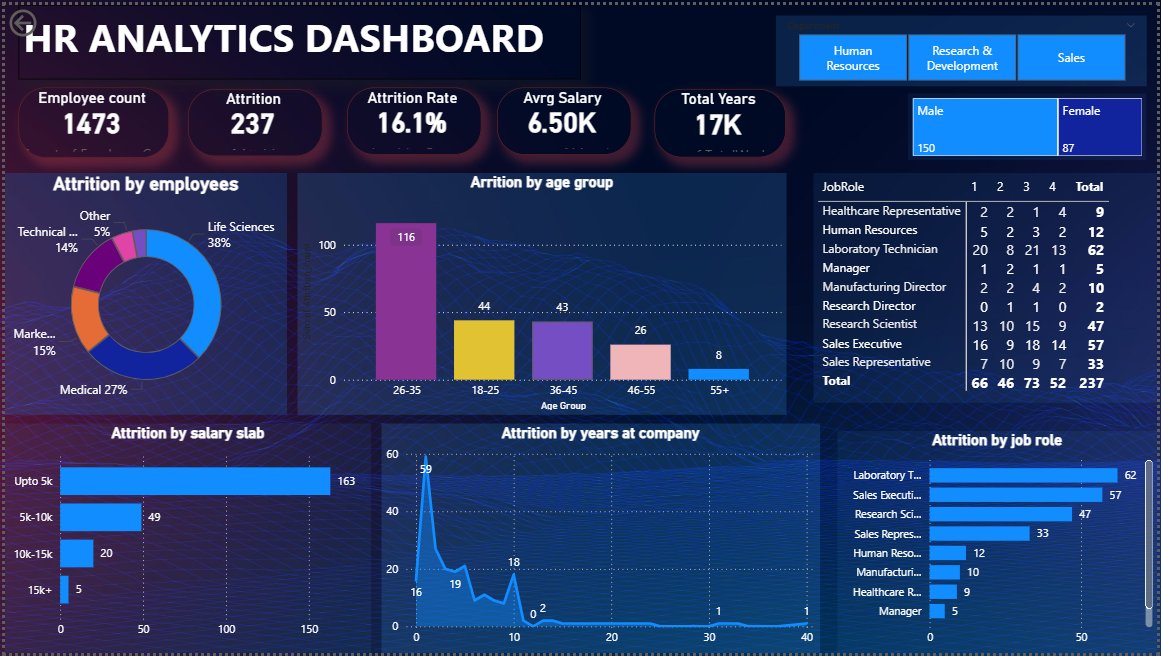

The page's visual inventory and layout, read from the dashboard file:
{"tool":"powerbi","page":{"name":"project_1","canvas":[1280,720],"ordinal":0},"visuals":[{"type":"card","title":"Employee count","fields":{"Values":["CountNonNull(HR_Analytics.EmployeeCount)"]},"box":[14.9,91.1,167.3,77.9],"z":0},{"type":"textbox","box":[14.9,0,624.5,82.8],"z":1000},{"type":"card","title":"Attrition","fields":{"Values":["Sum(HR_Analytics.Attrition_count)"]},"box":[203.7,92.8,149.1,74.5],"z":2000},{"type":"card","title":"Attrition Rate","fields":{"Values":["HR_Analytics.AtttritionRate"]},"box":[379.3,91.1,149.1,74.5],"z":3000},{"type":"card","title":"Avrg Salary","fields":{"Values":["Avg(HR_Analytics.MonthlyIncome)"]},"box":[546.6,91.1,149.1,74.5],"z":4000},{"type":"card","title":"Total Years","fields":{"Values":["Sum(HR_Analytics.TotalWorkingYears)"]},"box":[722.2,92.8,145.8,76.2],"z":6000},{"type":"actionButton","box":[0,0,100,40],"z":7000},{"type":"donutChart","title":"Attrition by employees","fields":{"Category":["HR_Analytics.EducationField"],"Y":["Sum(HR_Analytics.Attrition_count)"]},"box":[0,187.2,313.1,268.3],"z":8000},{"type":"clusteredColumnChart","title":"Arrition by age group","fields":{"Category":["HR_Analytics.AgeGroup"],"Y":["Sum(HR_Analytics.Attrition_count)"]},"box":[324.7,187.2,543.3,268.3],"z":9000},{"type":"clusteredBarChart","title":"Attrition by salary slab","fields":{"Category":["HR_Analytics.SalarySlab"],"Y":["Sum(HR_Analytics.Attrition_count)"]},"box":[0,465,406.7,255],"z":10000},{"type":"areaChart","title":"Attrition by years at company","fields":{"Y":["Sum(HR_Analytics.Attrition_count)"],"Category":["HR_Analytics.YearsAtCompany"]},"box":[419.1,465.5,487,255.1],"z":11000},{"type":"clusteredBarChart","title":"Attrition by job role","fields":{"Y":["Sum(HR_Analytics.Attrition_count)"],"Category":["HR_Analytics.JobRole"]},"box":[925,473.3,355,246.7],"z":12000},{"type":"pivotTable","fields":{"Rows":["HR_Analytics.JobRole"],"Columns":["HR_Analytics.JobSatisfaction"],"Values":["Sum(HR_Analytics.Attrition_count)"]},"box":[897.8,187.2,382.6,255.1],"z":13000},{"type":"treemap","title":"Attrition by gender","fields":{"Group":["HR_Analytics.Gender"],"Values":["Sum(HR_Analytics.Attrition_count)"]},"box":[1003.9,98.4,265,74.2],"z":13001},{"type":"slicer","fields":{"Values":["HR_Analytics.Department"]},"box":[857,12.1,411.9,78.7],"z":13002}]}

Visuals, with their boxes in screenshot pixels (x1, y1, x2, y2), scaled from the page's 1280x720 canvas onto the 1161x656 screenshot:
"Employee count" card: <bbox>14, 83, 165, 154</bbox>
textbox: <bbox>14, 0, 580, 75</bbox>
"Attrition" card: <bbox>185, 85, 320, 152</bbox>
"Attrition Rate" card: <bbox>344, 83, 479, 151</bbox>
"Avrg Salary" card: <bbox>496, 83, 631, 151</bbox>
"Total Years" card: <bbox>655, 85, 787, 154</bbox>
actionButton: <bbox>0, 0, 91, 36</bbox>
"Attrition by employees" donutChart: <bbox>0, 171, 284, 415</bbox>
"Arrition by age group" clusteredColumnChart: <bbox>295, 171, 787, 415</bbox>
"Attrition by salary slab" clusteredBarChart: <bbox>0, 424, 369, 655</bbox>
"Attrition by years at company" areaChart: <bbox>380, 424, 822, 655</bbox>
"Attrition by job role" clusteredBarChart: <bbox>839, 431, 1160, 655</bbox>
pivotTable - HR_Analytics.JobRole x HR_Analytics.JobSatisfaction: <bbox>814, 171, 1160, 403</bbox>
"Attrition by gender" treemap: <bbox>911, 90, 1151, 157</bbox>
slicer - HR_Analytics.Department: <bbox>777, 11, 1151, 83</bbox>
